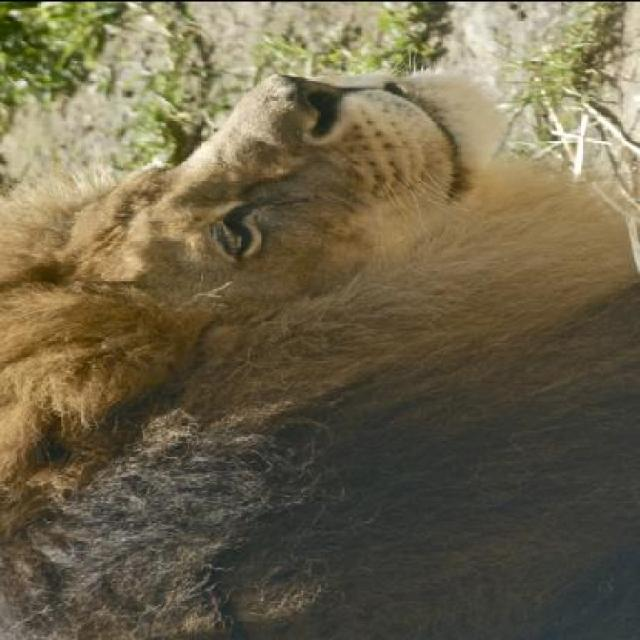Lion: (4, 61, 638, 638)
